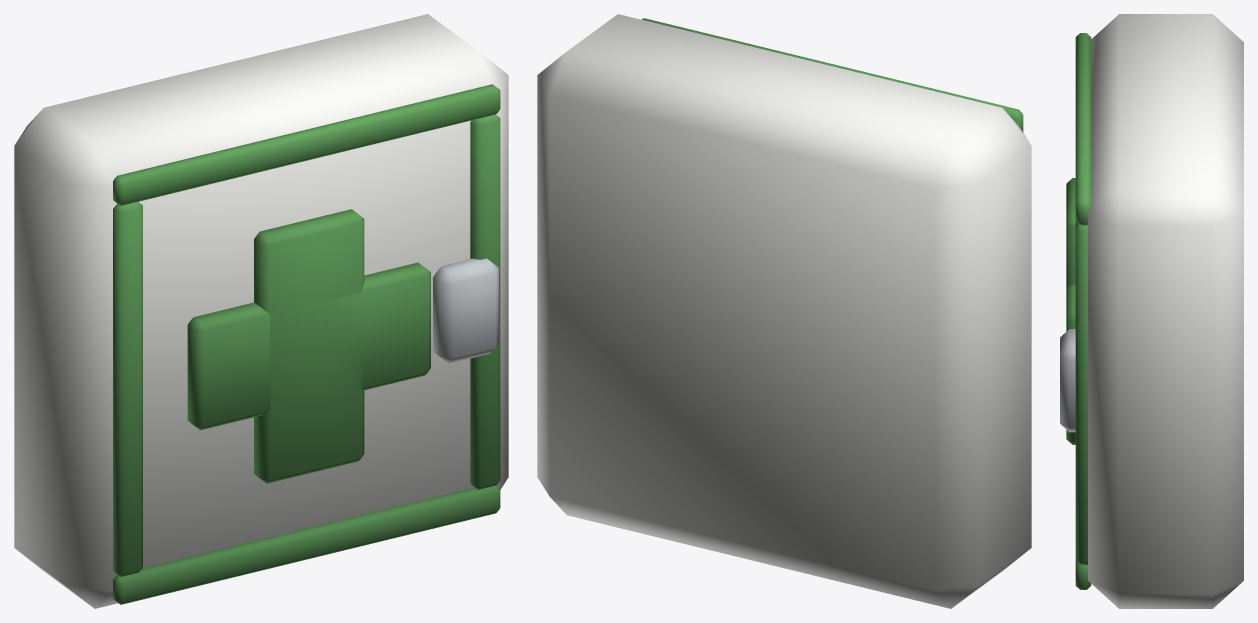
File: FirstAid_Box_Wall_01.glb
The picture shows the model from 3 angles, left to right: view 1: azimuth 30°, elevation 25°; view 2: azimuth 150°, elevation 25°; view 3: azimuth 270°, elevation 25°; orthographic projection. The views are drawn at different scales.
Parts seen in each view (by area): view 1: SM_FirstAid_Box_Wall_01; view 2: SM_FirstAid_Box_Wall_01; view 3: SM_FirstAid_Box_Wall_01.
Part boxes in pixels (box(x1,y1,x2,y2)): SM_FirstAid_Box_Wall_01: box(14, 14, 508, 608); SM_FirstAid_Box_Wall_01: box(537, 14, 1031, 608); SM_FirstAid_Box_Wall_01: box(1060, 14, 1243, 608).
Bounding box in the file's own units: 0.3 × 0.3 × 0.118.
1 material, 1 textured.
